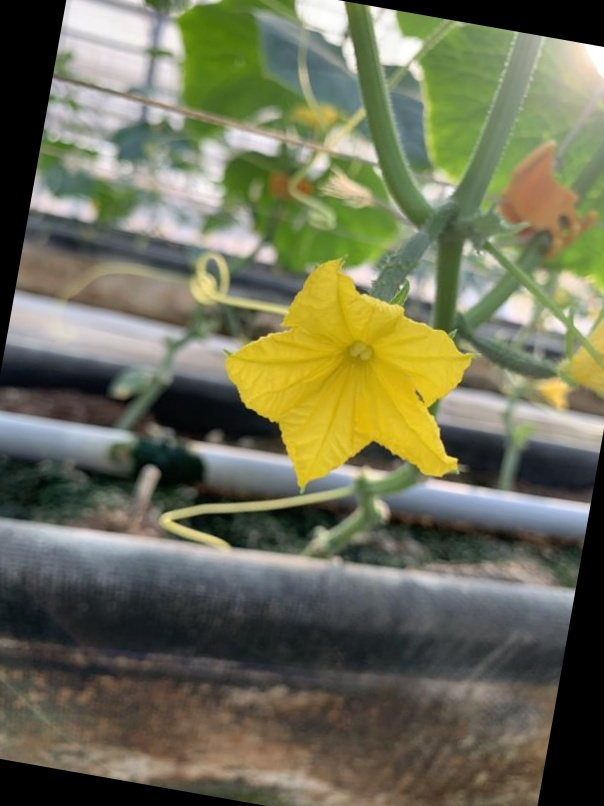flowering: (216, 217, 507, 493)
